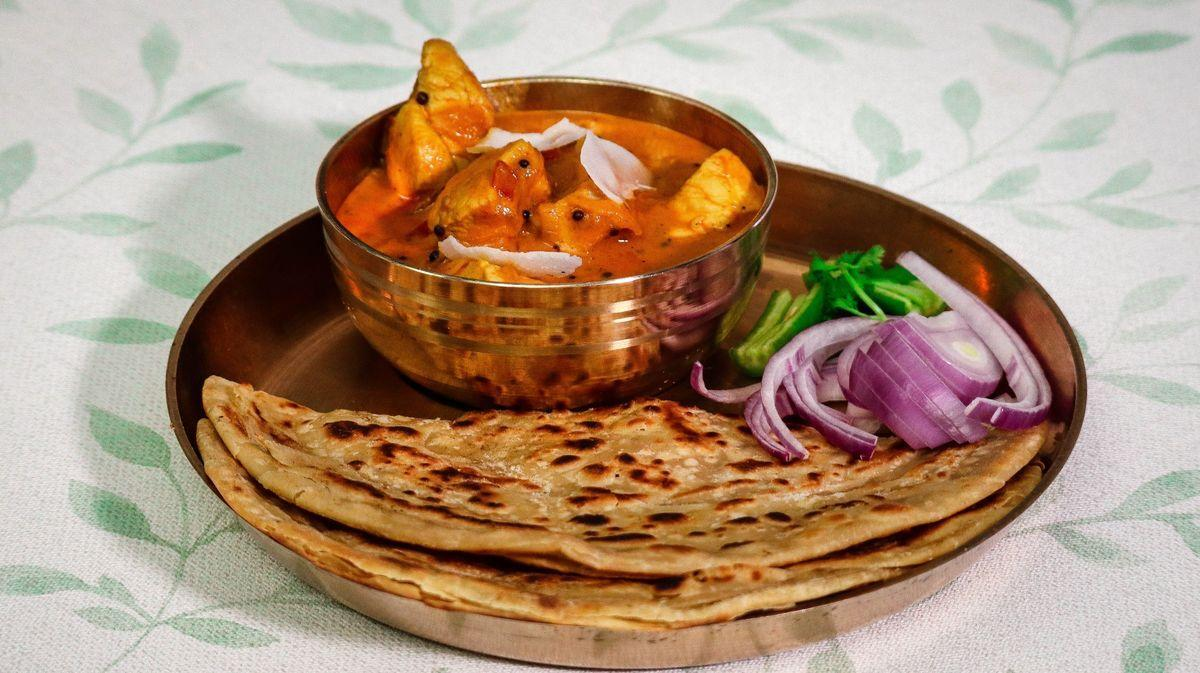chicken: (380, 87, 720, 259)
roti: (232, 401, 968, 588)
